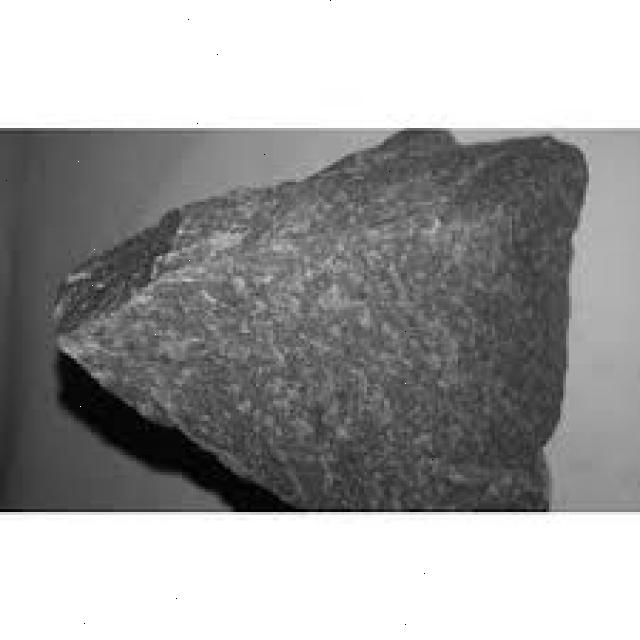Metamorphic: (57, 142, 569, 512)
